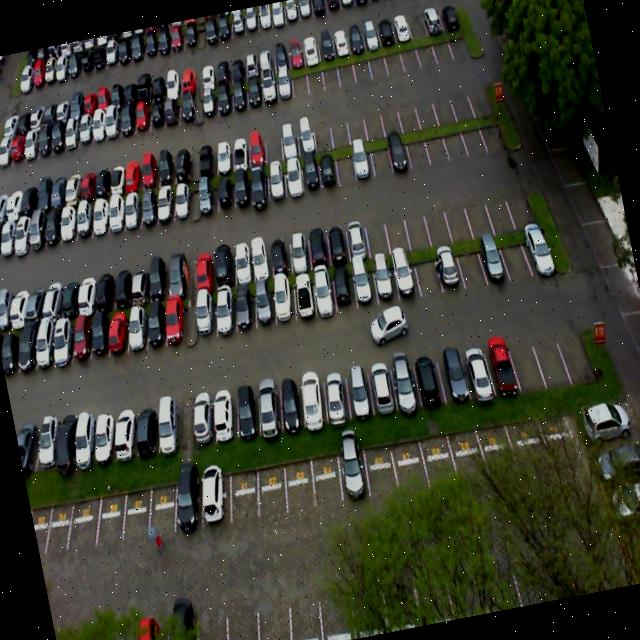empty: (110, 482, 160, 546), (139, 473, 186, 541), (58, 491, 105, 554), (86, 488, 132, 550), (508, 329, 548, 395), (250, 462, 294, 522), (554, 318, 596, 380), (222, 464, 266, 522), (279, 454, 321, 514), (36, 497, 80, 553), (532, 324, 570, 386), (308, 450, 346, 510), (463, 185, 497, 239), (422, 192, 454, 245), (506, 180, 539, 228), (498, 231, 530, 280), (382, 200, 412, 252), (456, 238, 486, 290), (486, 182, 517, 232), (404, 200, 433, 252), (414, 248, 443, 298), (444, 192, 474, 240), (360, 210, 391, 256), (478, 108, 508, 152), (444, 117, 470, 161), (424, 124, 452, 164), (332, 144, 358, 186), (460, 116, 487, 156), (369, 137, 394, 176), (406, 128, 431, 166)
occupied: (164, 470, 210, 534), (226, 380, 268, 442), (333, 446, 374, 509), (193, 466, 237, 524), (64, 410, 104, 470), (484, 334, 522, 397), (205, 282, 243, 342), (436, 346, 474, 406), (99, 302, 138, 360), (460, 341, 498, 400), (106, 406, 146, 462), (117, 295, 154, 355), (272, 376, 310, 434), (318, 366, 353, 428), (84, 410, 122, 466), (128, 401, 166, 457), (250, 379, 287, 436), (365, 357, 399, 418), (136, 298, 173, 354), (518, 220, 556, 274), (150, 402, 188, 456), (206, 386, 242, 442), (246, 274, 280, 332), (388, 352, 422, 410), (413, 351, 447, 409), (158, 293, 192, 350), (294, 372, 328, 429), (82, 306, 116, 362), (226, 282, 260, 337), (340, 363, 374, 418), (475, 232, 510, 284), (189, 288, 219, 347), (184, 394, 218, 445), (104, 264, 140, 310), (289, 271, 320, 324), (268, 276, 298, 328), (308, 270, 339, 320), (88, 269, 123, 313), (116, 187, 148, 235), (150, 180, 182, 228), (433, 244, 465, 292), (123, 262, 156, 308), (350, 260, 380, 310), (134, 184, 165, 232), (392, 250, 421, 300), (144, 259, 177, 302), (165, 256, 197, 300), (371, 256, 399, 306), (100, 190, 131, 235), (193, 171, 223, 217), (206, 247, 237, 291), (264, 232, 295, 276), (167, 179, 197, 224), (322, 218, 350, 266), (284, 228, 314, 272), (190, 252, 220, 294), (228, 240, 258, 282), (332, 264, 358, 312), (246, 238, 275, 280), (302, 226, 330, 268), (230, 167, 256, 212), (246, 162, 272, 206), (343, 218, 370, 260), (264, 160, 290, 203), (352, 140, 377, 182), (214, 170, 238, 212), (298, 154, 322, 195), (388, 133, 412, 172), (281, 158, 304, 196), (316, 148, 339, 186)
